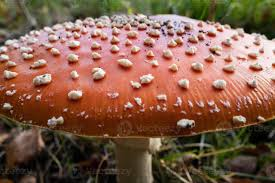boat: (67, 88, 83, 99)
truck: (91, 68, 105, 79)
